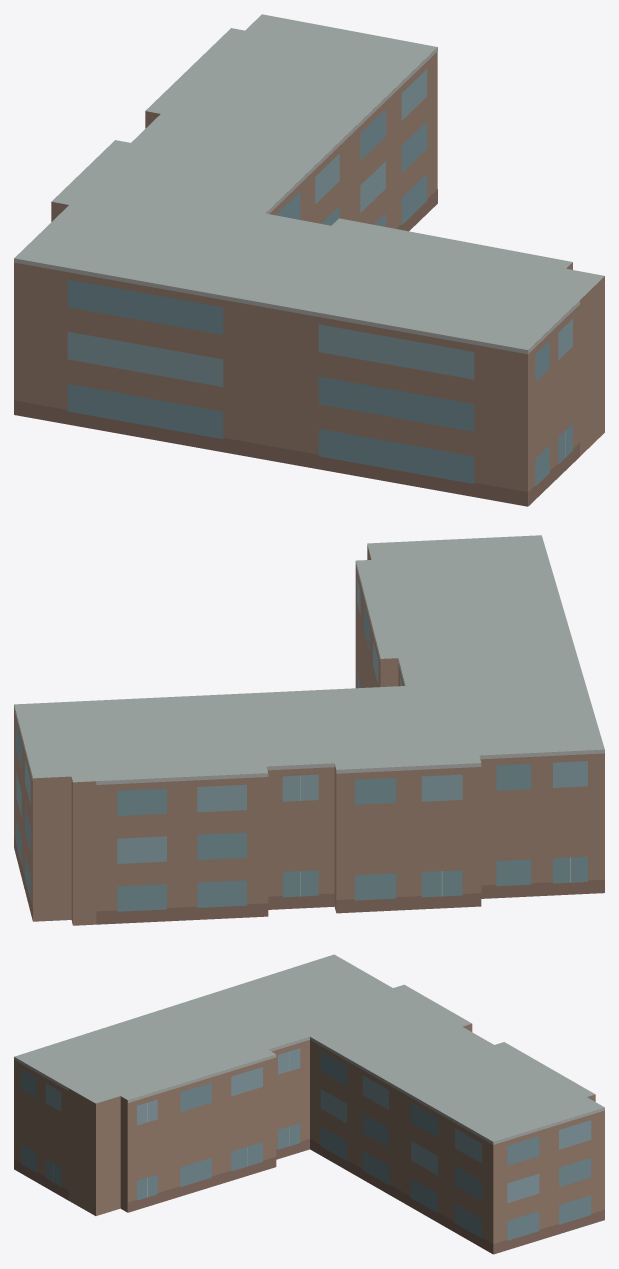
File: survey-upis-32744946.glb
3 views of the same model, one above another, from view 1: azimuth 30°, elevation 25°; view 2: azimuth 150°, elevation 25°; view 3: azimuth 270°, elevation 25° (orthographic). The views are drawn at different scales.
Visible parts, largest first — view 1: survey-upis-32744946.tmp; view 2: survey-upis-32744946.tmp; view 3: survey-upis-32744946.tmp.
Part boxes in pixels (<box>): survey-upis-32744946.tmp: <box>14,14,604,506</box>; survey-upis-32744946.tmp: <box>14,535,604,925</box>; survey-upis-32744946.tmp: <box>14,954,604,1254</box>.
Bounding box in the file's own units: 32.69 × 9.15 × 43.52.
